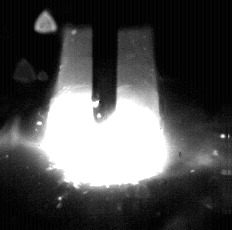arame: (93, 0, 118, 123)
poca: (44, 0, 166, 230)
